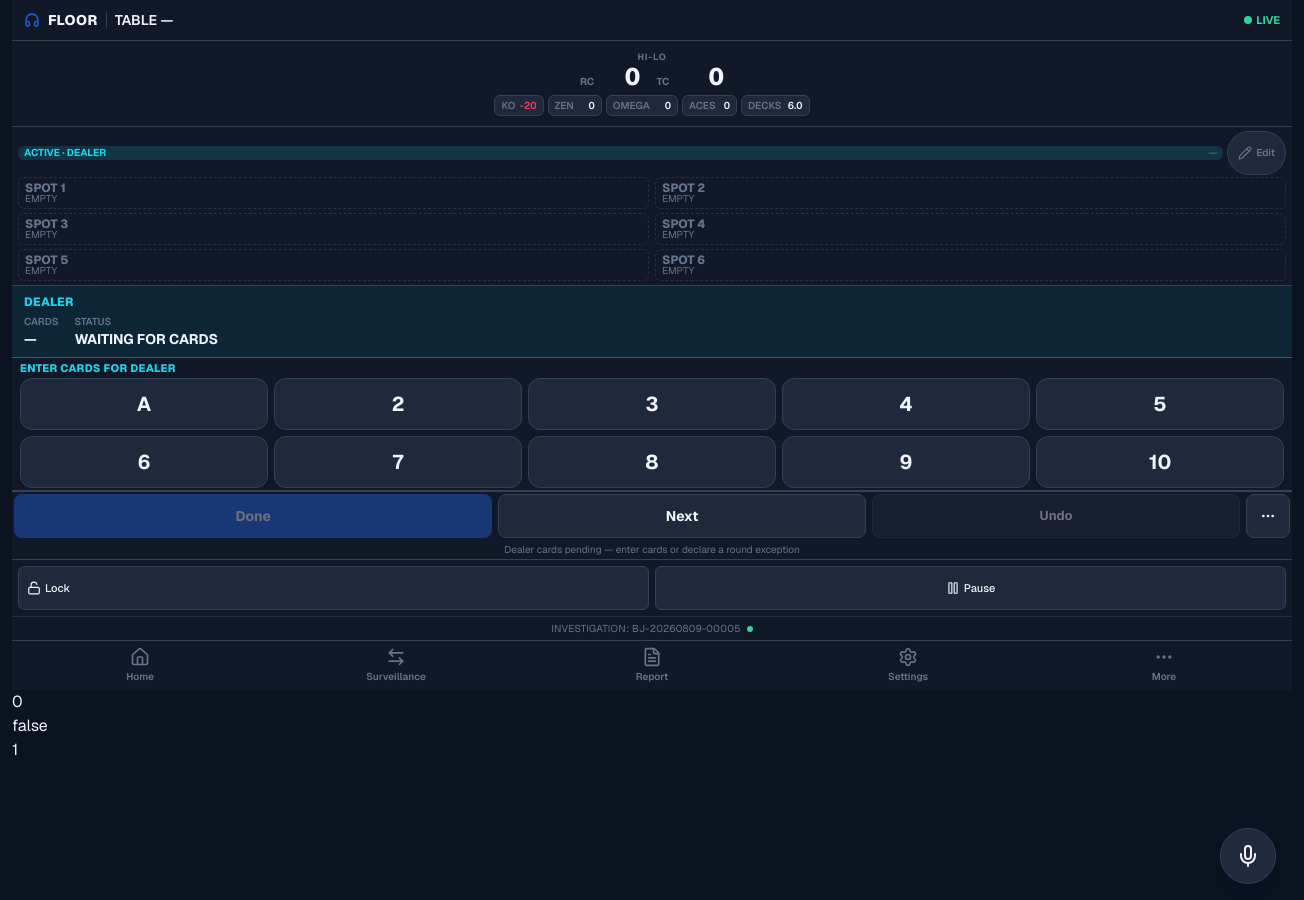
Test: FloorScreen — minimal Floor Mode shell › Done/Next/Undo reuse the exact same round-control handlers RoundControlsRow already exposes on Surveillance
This screenshot has width=1304, height=900.
Click the button "A" at (144, 404), box 20,378 -> 268,430
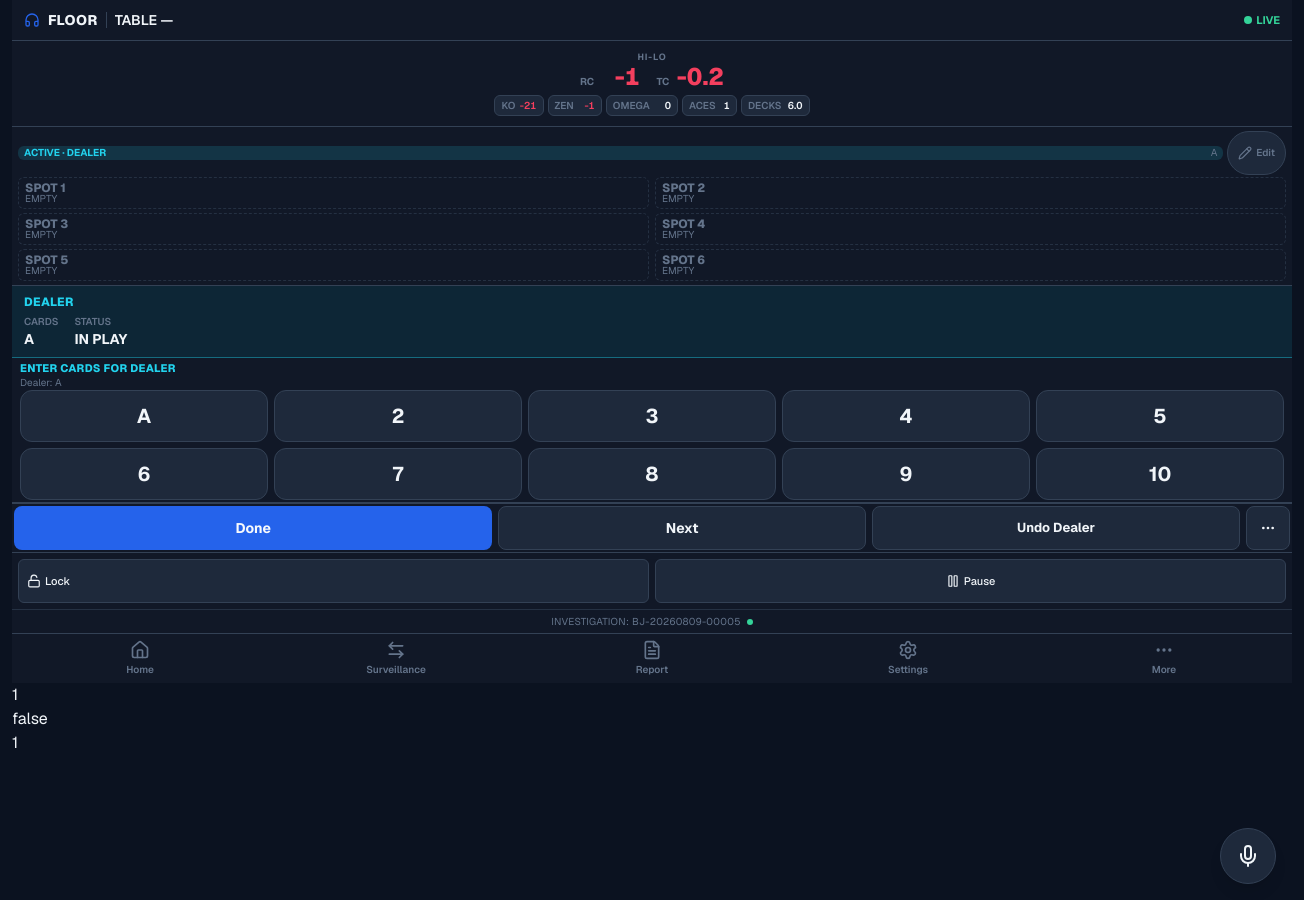
Result: the text with test id "dealer-card-count" reads "1" at 12,684 -> 18,705
Click the button "Undo Dealer" at (1056, 528), box 872,506 -> 1240,550
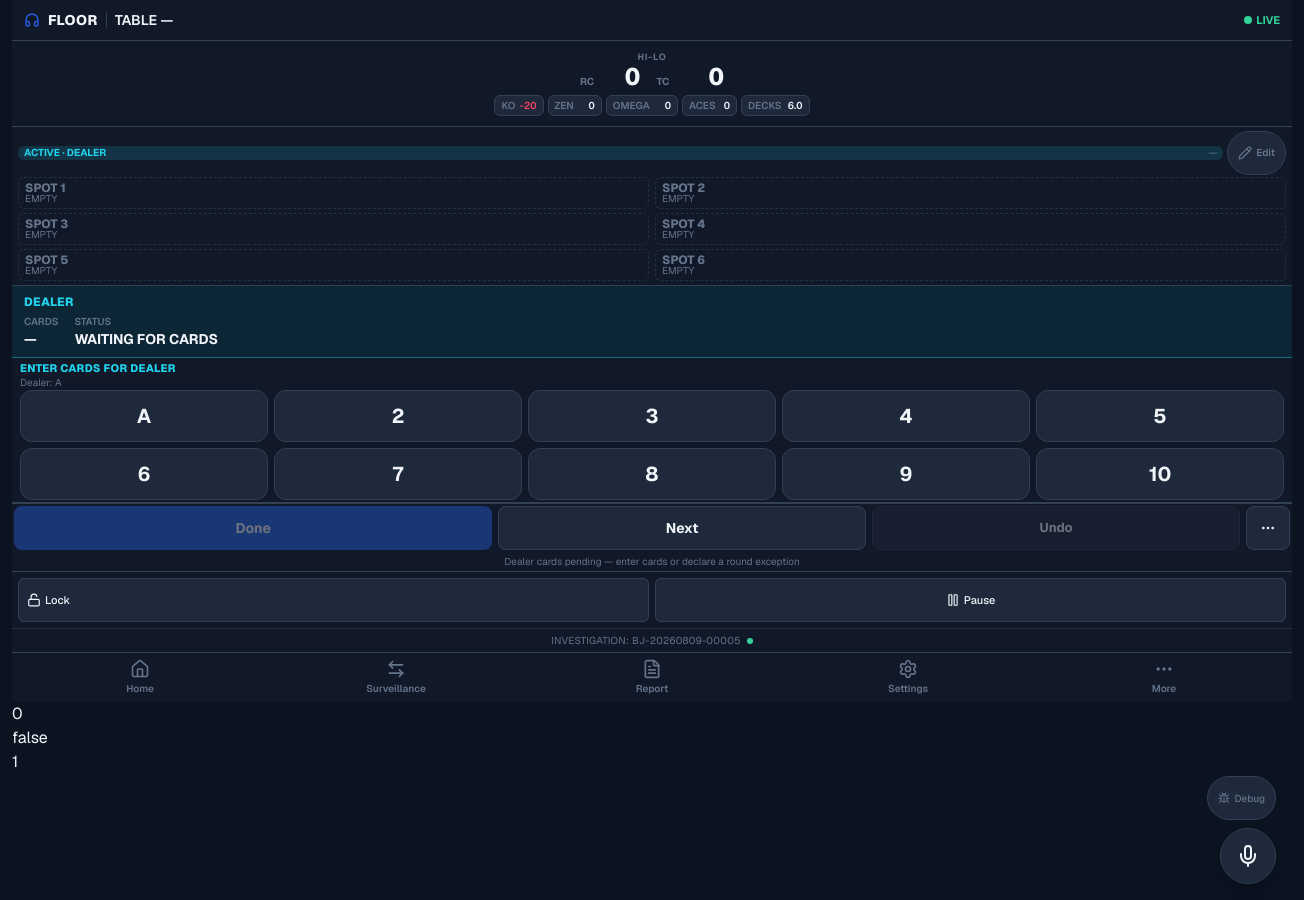
Result: the text with test id "dealer-card-count" reads "0" at 12,703 -> 23,724
